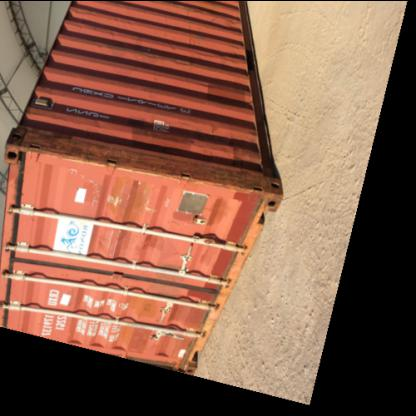Damage: (23, 128, 174, 170), (186, 157, 266, 193), (91, 191, 159, 223), (186, 79, 224, 98), (201, 13, 243, 30), (163, 56, 201, 68), (200, 120, 222, 140), (100, 28, 126, 40)
